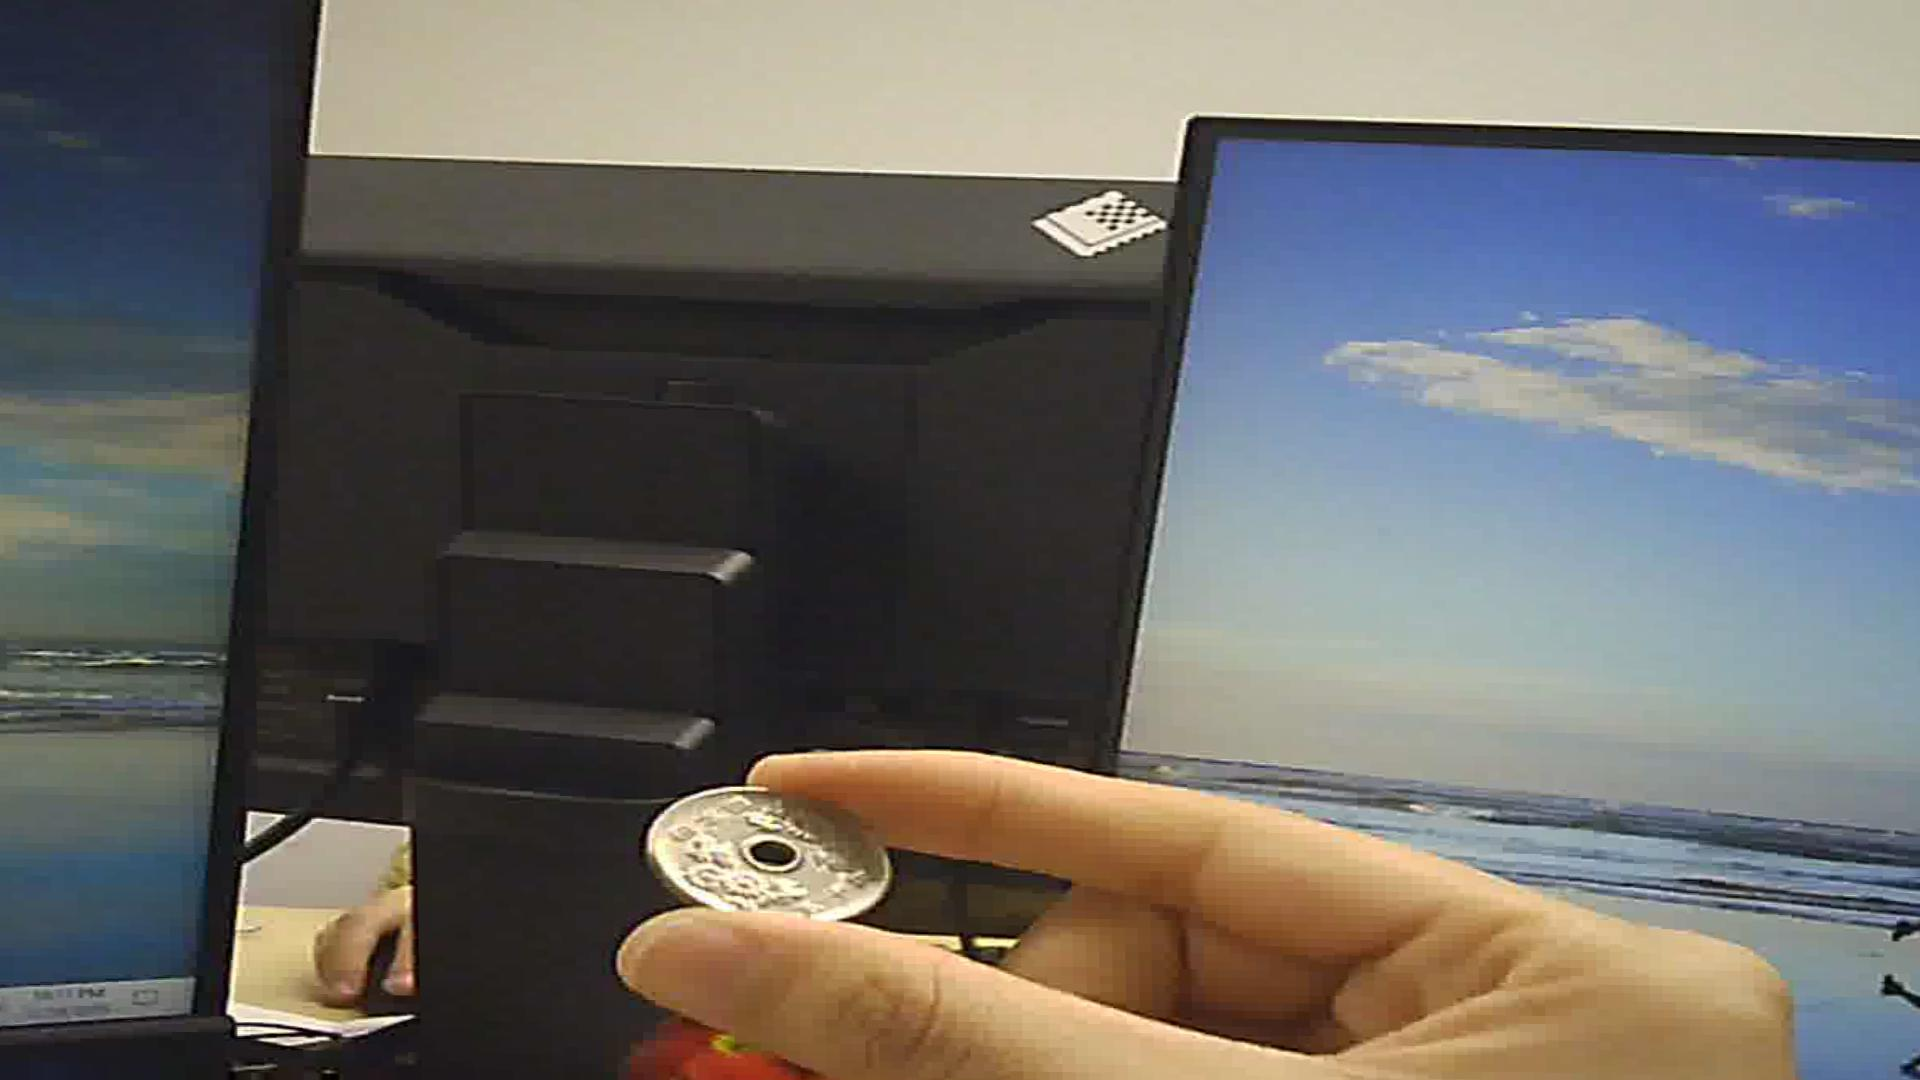50 Yen: (637, 778, 899, 943)
